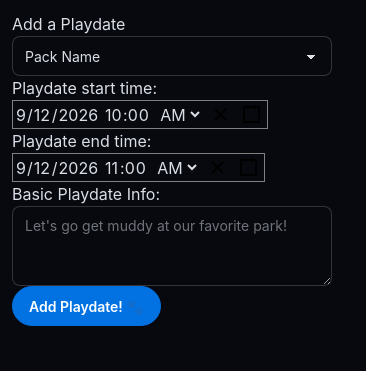
Test case: keeps the form open with a message when the server refuses
Select "Chelsea Morning Crew" in the dropdown named "pack" at (172, 56), box x1=12 y1=36 x2=332 y2=76
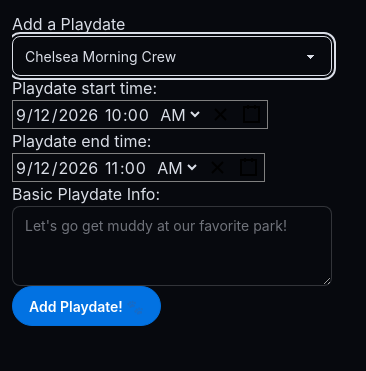
Click the button "Add Playdate! 🐾".
click(86, 306)  # box x1=12 y1=286 x2=161 y2=326
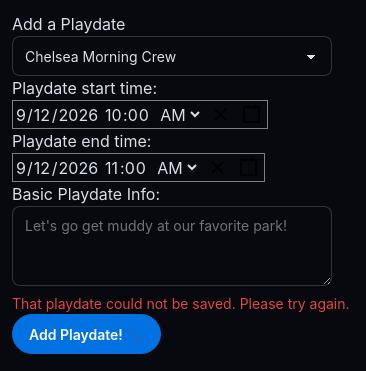
Expected: the text "That playdate could not be saved. Please try again." is shown, x1=12 y1=295 x2=350 y2=312
